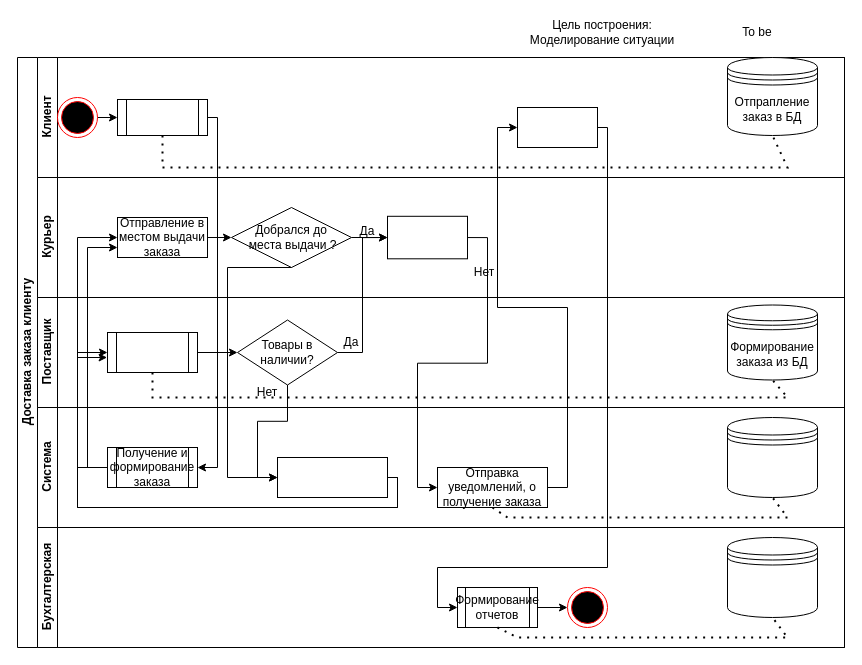
Some shapes in this 862 by 665 pixel diagram are drawn without their labels. Each missing label, with the centre of its shape:
Оформление заказа: [162,117]
Получение заказа: [427,237]
Получение и оплата заказа: [557,127]
Получение и отправка важных данных: [772,577]
Получение информации об участниках заказа: [772,457]
Сборка заказа: [152,352]
Уведомление сторон, об изменение заказа: [332,477]
